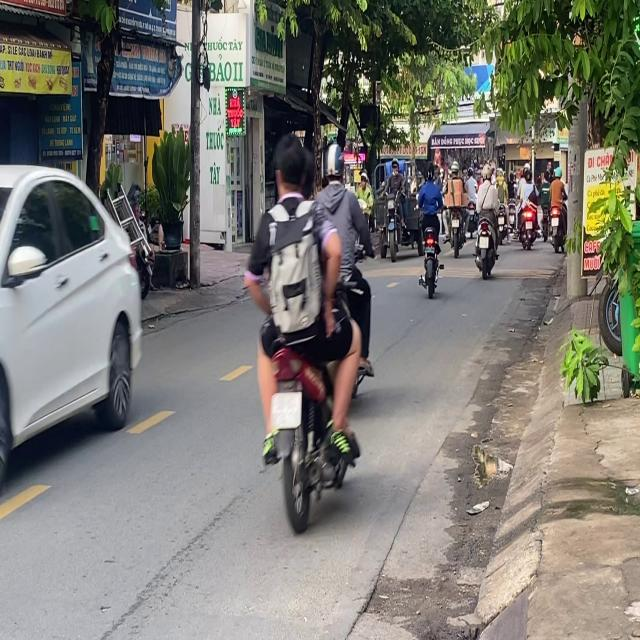helmet: (324, 141, 346, 186)
licenseplate: (242, 130, 376, 530)
motorcyclist: (272, 133, 309, 199)
nohelmet: (270, 392, 301, 426)
